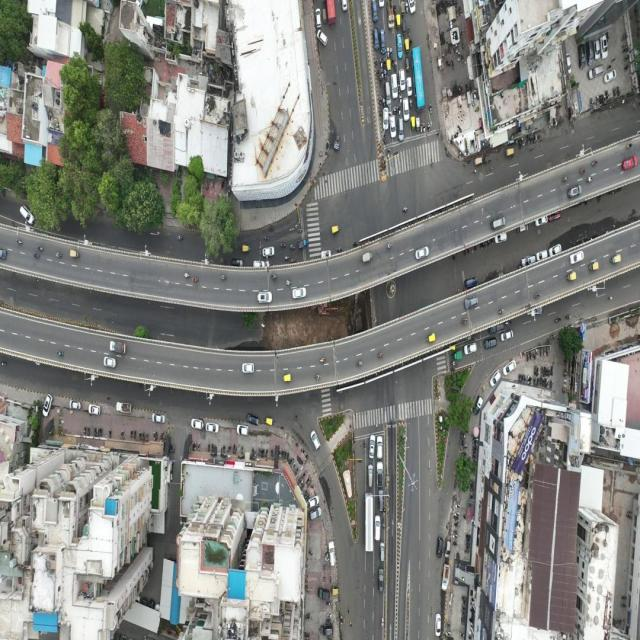3W: (69, 248, 82, 262), (610, 252, 622, 265), (362, 251, 374, 264), (588, 260, 600, 272), (298, 238, 310, 250), (333, 134, 341, 151), (566, 271, 577, 282), (426, 331, 436, 343), (451, 350, 463, 360), (506, 148, 516, 160), (282, 372, 292, 383), (332, 224, 342, 235), (265, 415, 274, 427), (395, 12, 401, 29), (332, 584, 339, 598), (410, 115, 416, 131), (473, 157, 483, 166), (484, 154, 493, 164), (405, 37, 410, 54), (242, 244, 252, 252), (322, 8, 327, 24), (405, 57, 410, 73), (416, 116, 420, 133)
Bus: (412, 46, 426, 113), (360, 492, 374, 552)
Cars: (19, 201, 36, 226), (308, 429, 322, 453), (41, 393, 54, 417), (472, 395, 485, 417), (488, 368, 502, 388), (414, 243, 430, 260), (567, 184, 583, 201), (622, 155, 638, 172), (491, 214, 506, 232), (395, 32, 404, 60), (503, 359, 516, 378), (364, 464, 374, 488), (328, 541, 337, 566), (376, 568, 385, 593), (257, 291, 273, 305), (464, 295, 478, 311), (570, 250, 584, 266), (462, 275, 478, 289), (316, 30, 329, 47), (369, 0, 379, 22), (88, 403, 102, 418), (483, 338, 498, 352), (151, 412, 167, 425), (376, 462, 384, 488), (549, 240, 562, 256), (434, 612, 442, 637), (534, 214, 548, 228), (205, 421, 220, 434), (292, 287, 307, 300), (493, 233, 508, 246), (463, 342, 478, 355), (376, 435, 384, 459), (371, 28, 379, 51), (368, 433, 375, 459), (548, 210, 562, 223), (310, 507, 322, 522), (313, 8, 322, 28), (516, 224, 531, 236), (520, 255, 536, 266), (391, 73, 398, 98), (236, 424, 249, 437), (242, 362, 255, 375), (501, 330, 514, 343), (68, 399, 82, 411), (380, 29, 387, 53), (377, 489, 384, 512), (436, 537, 443, 560), (104, 356, 116, 369), (308, 494, 320, 507), (375, 515, 381, 541), (231, 257, 244, 269), (389, 116, 396, 138), (381, 108, 388, 130), (191, 418, 203, 430), (398, 118, 404, 142), (262, 246, 275, 257), (445, 538, 451, 559), (249, 414, 259, 426), (379, 542, 385, 562), (253, 260, 266, 269)
LCV: (440, 563, 451, 592), (116, 399, 132, 415), (110, 340, 126, 355), (316, 587, 331, 603)
M2W: (217, 274, 230, 284), (384, 241, 394, 253), (379, 616, 385, 632), (55, 250, 64, 260), (578, 167, 588, 176), (428, 101, 434, 115), (176, 233, 185, 242), (376, 351, 385, 360), (497, 308, 506, 317), (591, 159, 600, 168), (553, 315, 562, 324), (561, 174, 569, 184), (16, 236, 23, 247), (32, 253, 41, 261), (533, 291, 541, 300), (57, 350, 64, 360), (320, 356, 327, 365), (356, 359, 363, 368), (625, 142, 632, 151), (564, 312, 571, 321), (37, 245, 45, 252), (271, 273, 278, 281), (504, 320, 512, 327), (193, 276, 199, 285), (184, 272, 191, 279), (314, 374, 321, 381), (336, 246, 343, 253), (352, 240, 359, 247), (550, 333, 557, 340), (286, 279, 292, 287), (462, 318, 468, 326), (264, 234, 270, 242), (402, 206, 408, 214), (280, 242, 287, 248), (284, 254, 290, 261), (289, 244, 296, 250), (586, 177, 593, 183), (489, 165, 495, 172), (427, 122, 431, 132), (297, 228, 303, 234), (451, 361, 456, 368), (423, 122, 426, 133), (291, 258, 296, 264), (420, 122, 423, 132), (382, 520, 385, 529), (473, 169, 478, 174)
